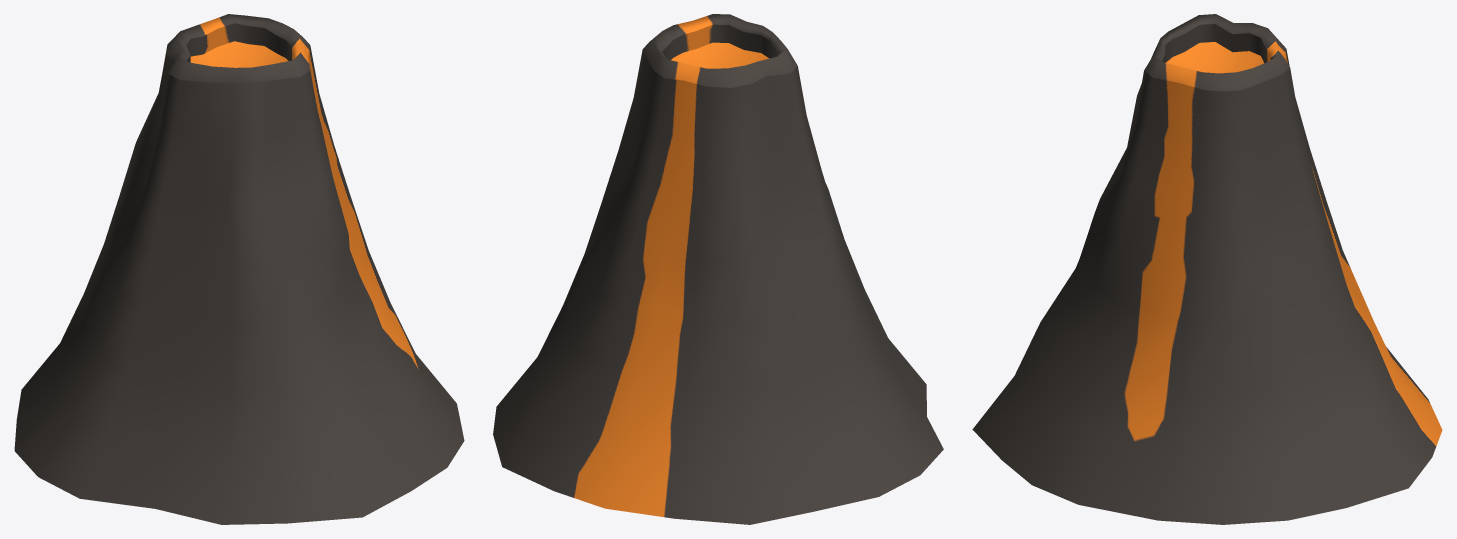
File: Volcano.fbx
3 renders of one model, left to right at view 1: azimuth 30°, elevation 25°; view 2: azimuth 150°, elevation 25°; view 3: azimuth 270°, elevation 25°, orthographic.
Visible parts, largest first — view 1: pCylinder1; view 2: pCylinder1; view 3: pCylinder1.
Part boxes in pixels (x1,y1,x2,y2): pCylinder1: [14, 14, 464, 524]; pCylinder1: [493, 14, 943, 524]; pCylinder1: [972, 14, 1442, 524].
Size of the model in its own units: 3.22 by 2.99 by 3.31.
